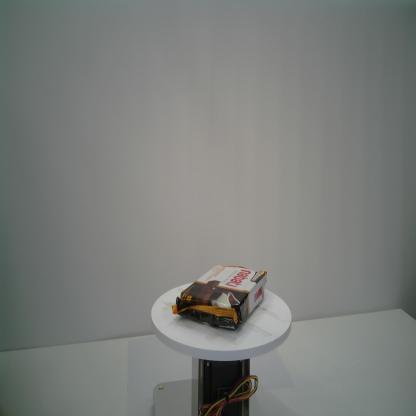Dessert: (171, 263, 269, 331)
